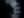helmet: (3, 0, 21, 18)
